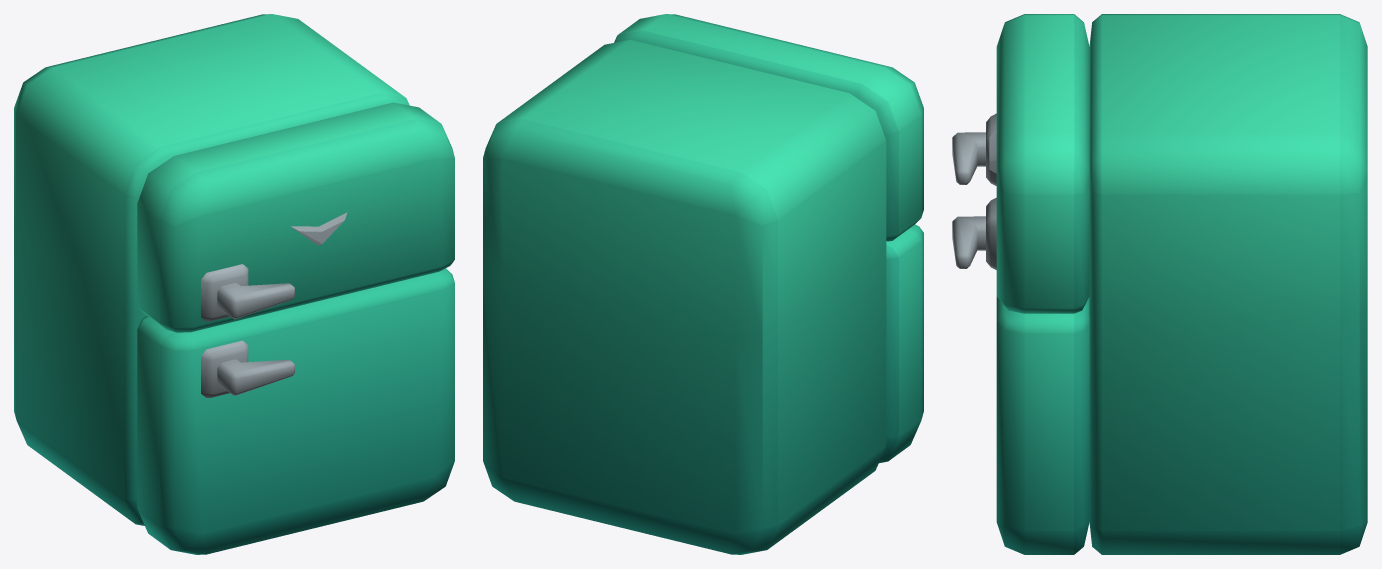
The model's file is fridge.glb.
3 renders of one model, left to right at view 1: azimuth 30°, elevation 25°; view 2: azimuth 150°, elevation 25°; view 3: azimuth 270°, elevation 25°, orthographic. The views are drawn at different scales.
Parts seen in each view (by area): view 1: Cube.616, fridge_A_door_bottom, fridge_A_door_top; view 2: Cube.616, fridge_A_door_top, fridge_A_door_bottom; view 3: Cube.616, fridge_A_door_top, fridge_A_door_bottom.
Part boxes in pixels (bbox=[...]): Cube.616: bbox=[14, 14, 409, 525]; fridge_A_door_bottom: bbox=[137, 268, 454, 554]; fridge_A_door_top: bbox=[137, 102, 454, 332]; Cube.616: bbox=[483, 39, 886, 554]; fridge_A_door_top: bbox=[614, 14, 923, 241]; fridge_A_door_bottom: bbox=[879, 224, 923, 463]; Cube.616: bbox=[1089, 14, 1367, 554]; fridge_A_door_top: bbox=[952, 14, 1089, 313]; fridge_A_door_bottom: bbox=[952, 197, 1089, 554].
Bounding box in the file's own units: 2 × 2.5 × 2.24.
1 material, 1 textured.
